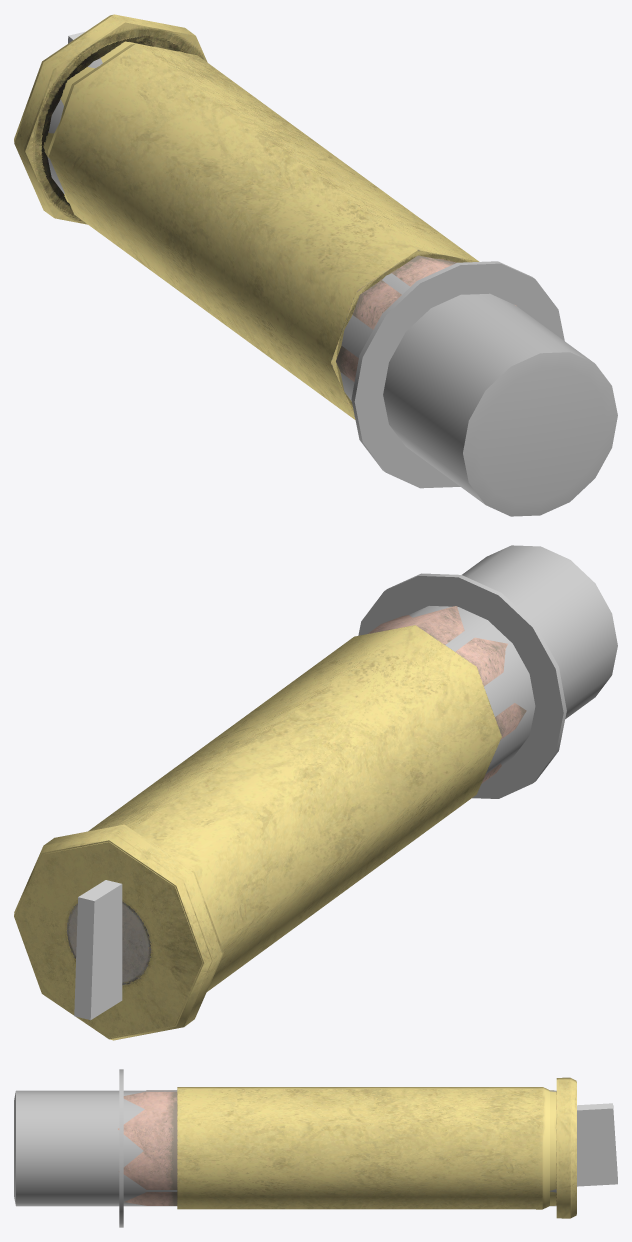
File: 38_special_round_object (merge).fbx
3 renders of one model, top to bottom at view 1: azimuth 30°, elevation 25°; view 2: azimuth 150°, elevation 25°; view 3: azimuth 270°, elevation 25°, orthographic. The views are drawn at different scales.
Visible parts, largest first — view 1: loaded, plug, case; view 2: loaded, plug, case, MagDisabledDecal; view 3: loaded, plug, MagDisabledDecal, case.
Part boxes in pixels (x1,y1,x2,y2): loaded: [14, 14, 516, 419]; plug: [47, 58, 617, 516]; case: [14, 15, 474, 412]; loaded: [14, 606, 526, 1040]; plug: [358, 545, 617, 798]; case: [14, 824, 223, 1040]; MagDisabledDecal: [74, 880, 122, 1020]; loaded: [118, 1077, 576, 1218]; plug: [14, 1069, 556, 1227]; MagDisabledDecal: [577, 1103, 617, 1186]; case: [556, 1078, 576, 1218].
Bounding box in the file's own units: 0.0116 × 0.0116 × 0.0443.
